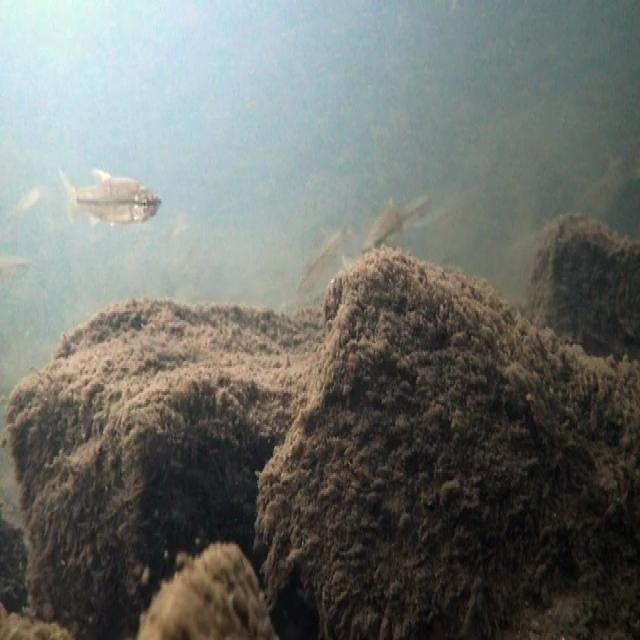Cakil Baligi: (57, 162, 167, 228)
